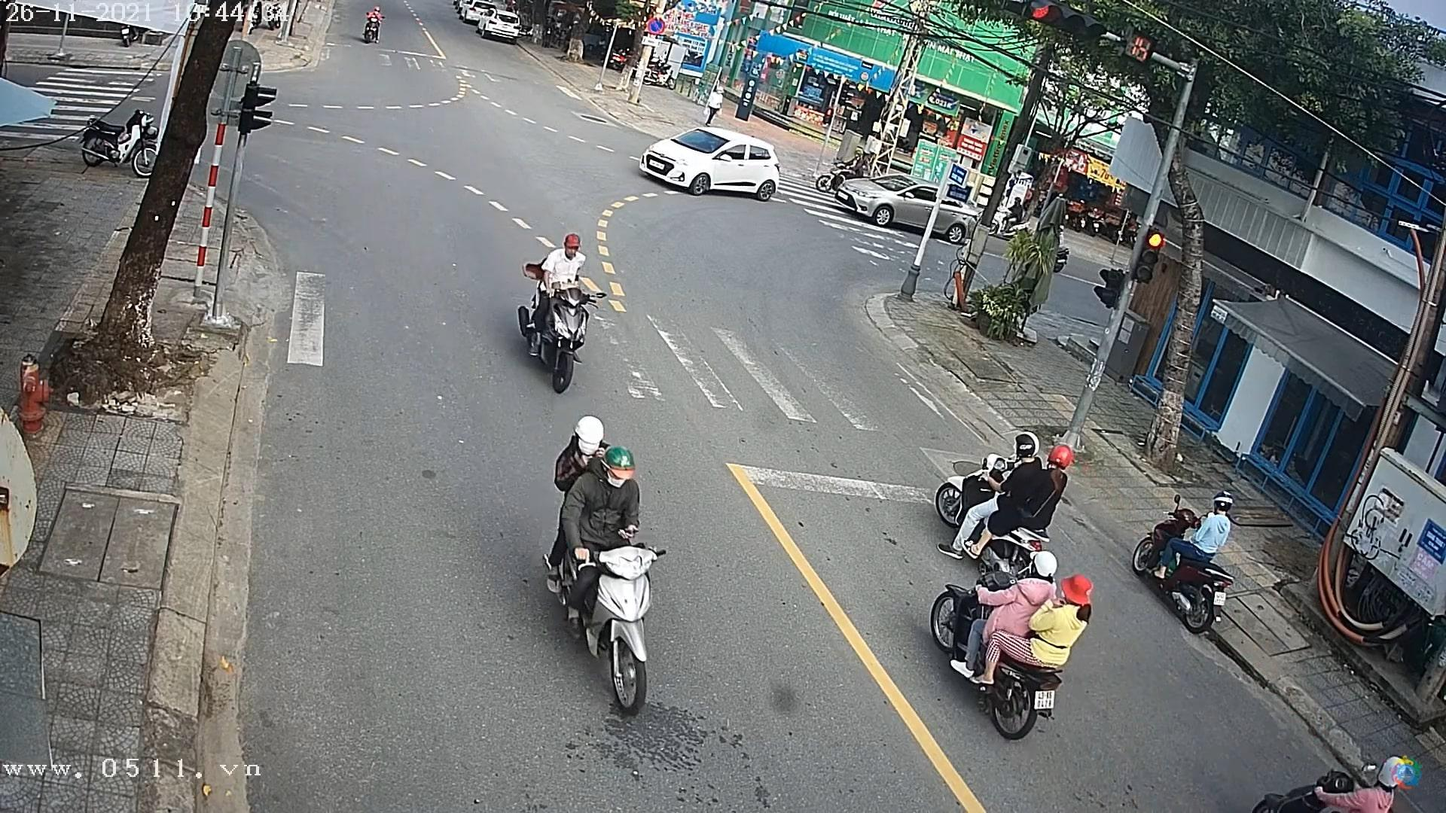car: (641, 127, 786, 201), (834, 175, 979, 237)
motorbike: (543, 480, 662, 722), (925, 562, 1061, 746), (935, 450, 1054, 583), (1130, 495, 1236, 637), (517, 275, 602, 393)
